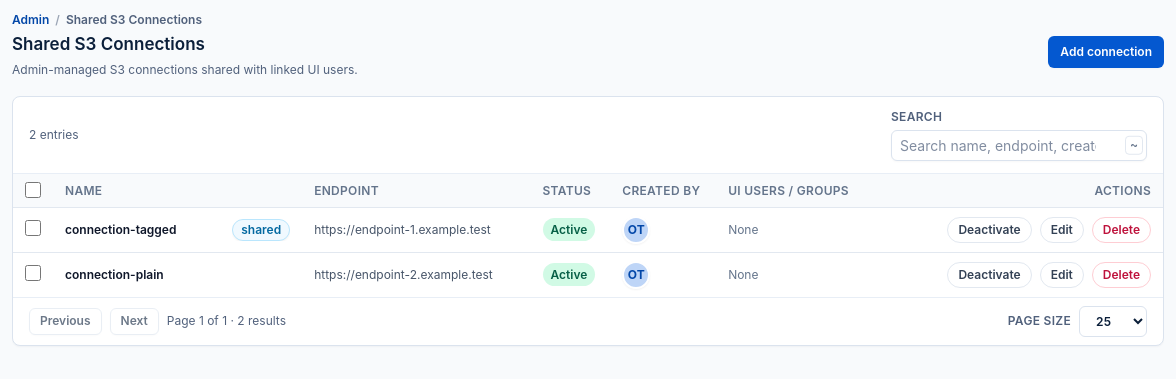
Test: S3ConnectionsPage live validation › searches shared connections by tag label
This screenshot has width=1176, height=379.
Expected: the text "connection-tagged" is shown, [65,222,176,237]
Expected: the text "connection-plain" is shown, [65,267,164,282]
Type "shared" into the search field labelled "Search" at {"x": 1019, "y": 145}, box [891,130,1147,160]
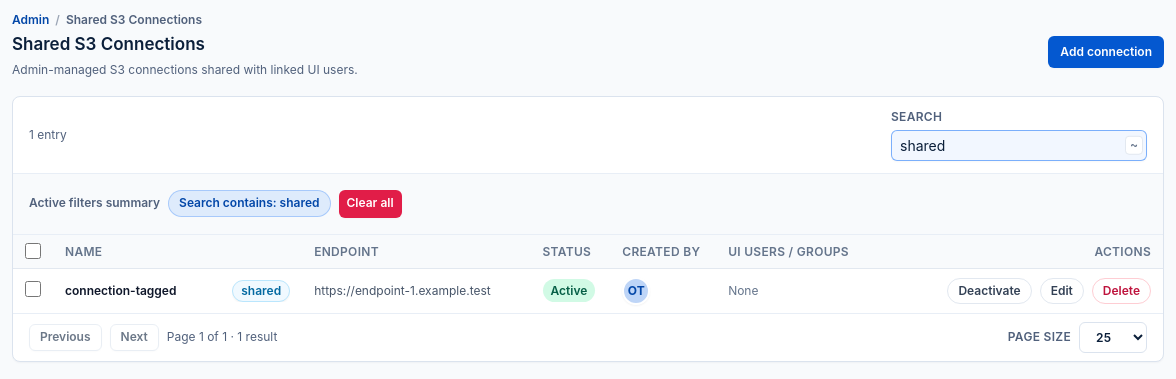
Expected: the text "connection-tagged" is shown, [65,283,176,298]
Expected: the text "connection-plain" is gone
